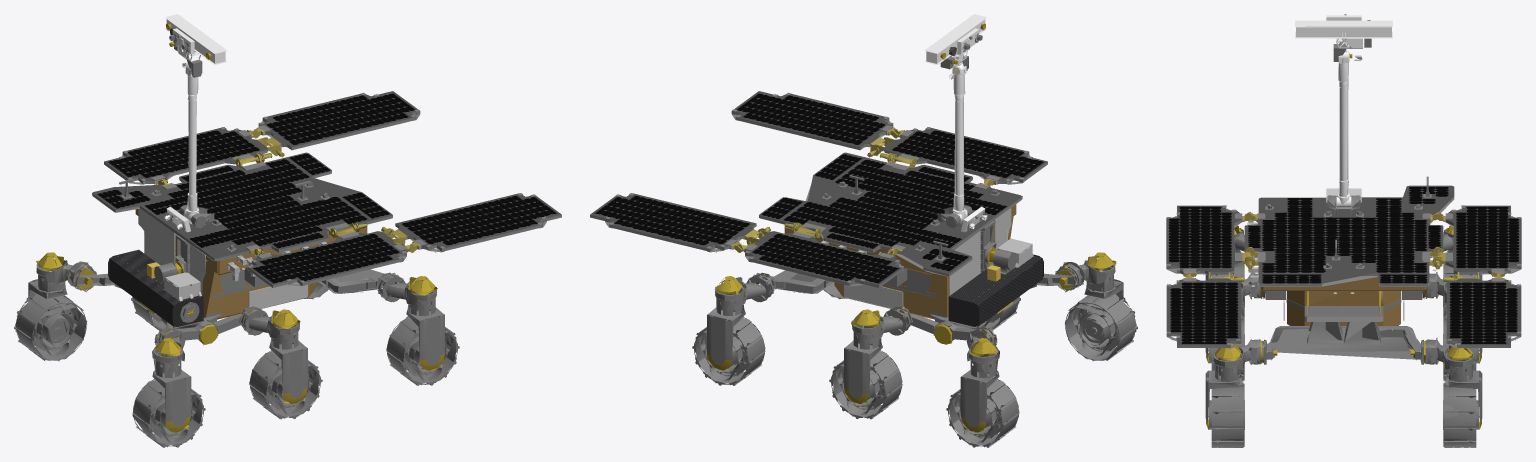
File: exomars_rover-low.glb
3 views of the same model, side by side, from view 1: azimuth 30°, elevation 25°; view 2: azimuth 150°, elevation 25°; view 3: azimuth 270°, elevation 25° (orthographic).
Parts seen in each view (by area): view 1: ExoMars.001, Solar Panels, Left Solar Panel, Drill, Mast; view 2: ExoMars.001, Solar Panels, Left Solar Panel, Drill, Mast; view 3: ExoMars.001, Left Solar Panel, Solar Panels, Mast.
Boxes of the visible parts, box(x1,y1,x2,y2) form: ExoMars.001: box(14, 24, 546, 447); Solar Panels: box(92, 112, 561, 287); Left Solar Panel: box(104, 91, 561, 284); Drill: box(108, 249, 203, 326); Mast: box(164, 14, 226, 232); ExoMars.001: box(605, 23, 1137, 447); Solar Panels: box(590, 112, 1047, 287); Left Solar Panel: box(590, 91, 1047, 284); Drill: box(948, 238, 1043, 326); Mast: box(925, 14, 987, 232); ExoMars.001: box(1166, 38, 1521, 447); Left Solar Panel: box(1166, 205, 1521, 345); Solar Panels: box(1166, 185, 1521, 347); Mast: box(1295, 15, 1392, 208).
Size of the model in its own units: 299 by 249 by 234.
Materials: 14 (3 with a texture image).
